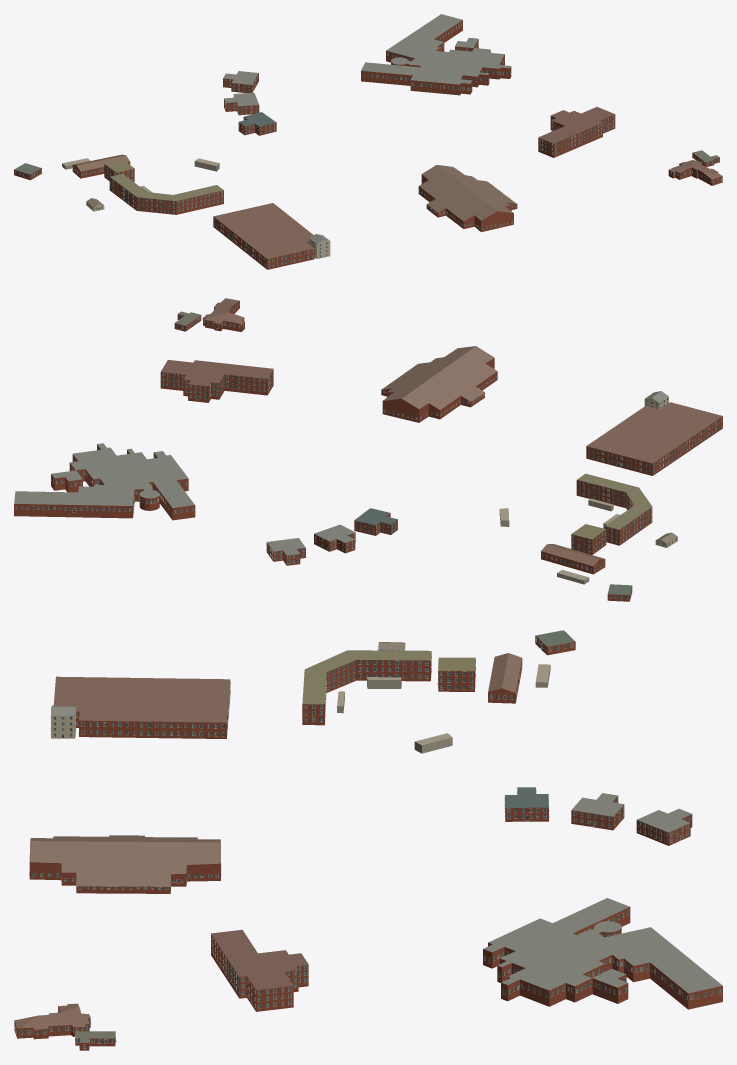
3 views of the same model, one above another, from view 1: azimuth 30°, elevation 25°; view 2: azimuth 150°, elevation 25°; view 3: azimuth 270°, elevation 25° (orthographic). The views are drawn at different scales.
Visible parts, largest first — view 1: -5_1_271772894_0; view 2: -5_1_271772894_0; view 3: -5_1_271772894_0.
Part boxes in pixels (x1=…): -5_1_271772894_0: x1=14, y1=14, x2=722, y2=269; -5_1_271772894_0: x1=14, y1=298, x2=722, y2=601; -5_1_271772894_0: x1=14, y1=630, x2=722, y2=1050.
Bounding box in the file's own units: 518 × 26.36 × 383.
